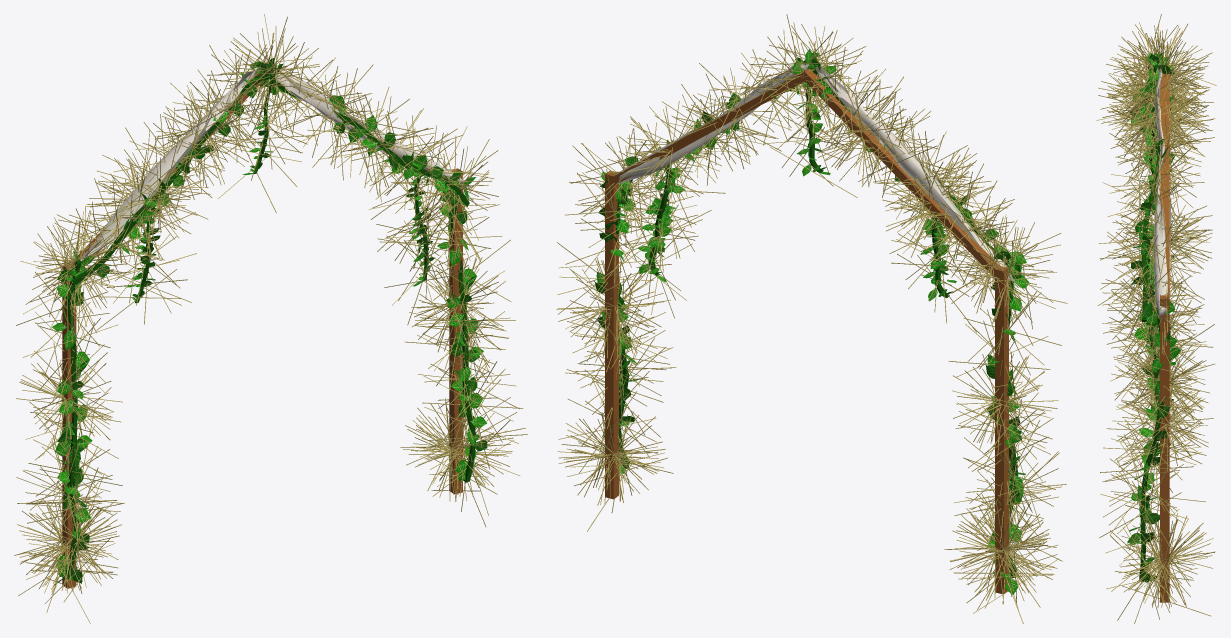
File: kapı1.fbx
3 views of the same model, side by side, from view 1: azimuth 30°, elevation 25°; view 2: azimuth 150°, elevation 25°; view 3: azimuth 270°, elevation 25° (orthographic). The views are drawn at different scales.
Visible parts, largest first — view 1: kapı2; view 2: kapı2; view 3: kapı2.
Part boxes in pixels (x1=…): kapı2: x1=14, y1=14, x2=527, y2=623; kapı2: x1=556, y1=14, x2=1067, y2=623; kapı2: x1=1096, y1=14, x2=1216, y2=623.
Bounding box in the file's own units: 959 × 1001 × 212.
